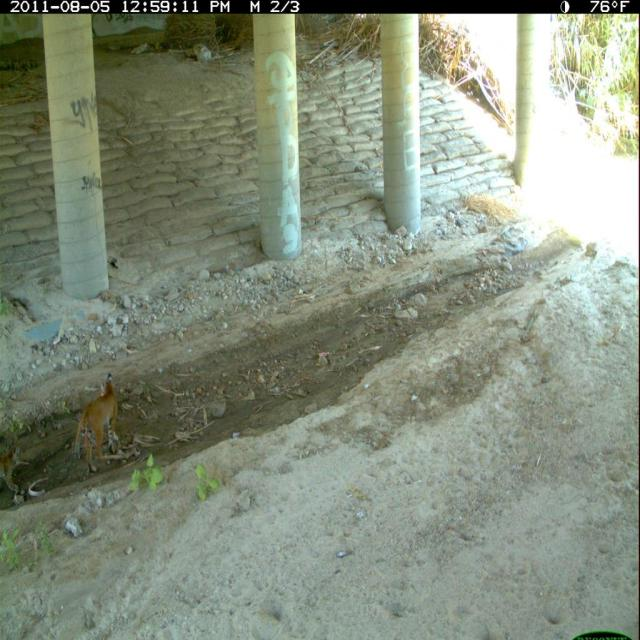bobcat: (72, 370, 126, 479), (1, 441, 26, 499)
